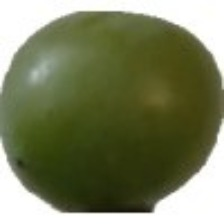grapes: (56, 20, 205, 189)
